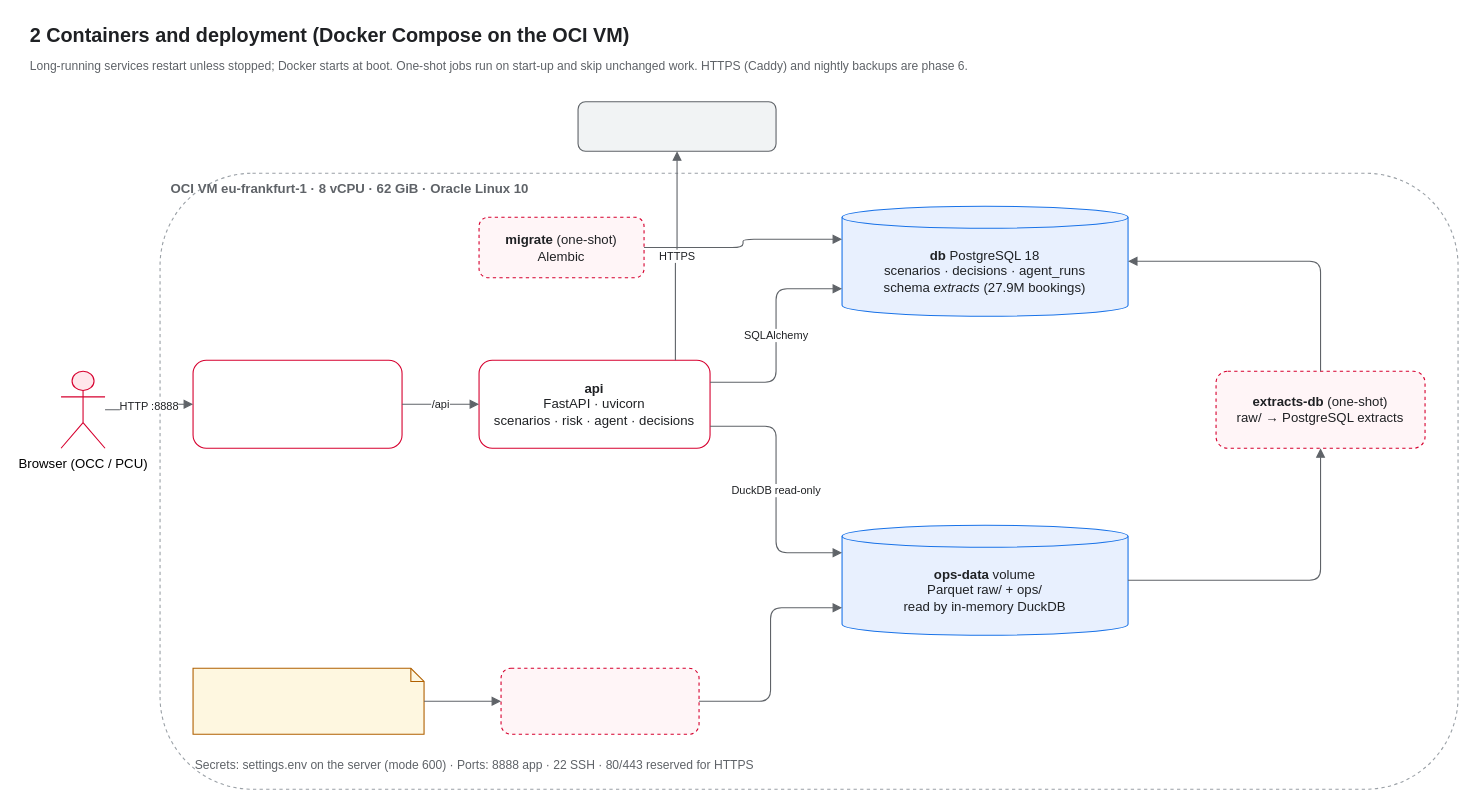
The diagram is 1477 pixels wide and 809 high, and some of its shapes have lost their labels. Here are the shapes that lost their labels. From the top down, the centre of each, then its label:
the point at 676,126: Anthropic Claude API
the point at 297,403: web nginx :8888 · React app CSP · login rate limit
the point at 308,700: Input files (read-only) ~/disruption-advisor-input
the point at 599,700: ingest (one-shot) stages 1 · 2 · 3 · 3b · 4
